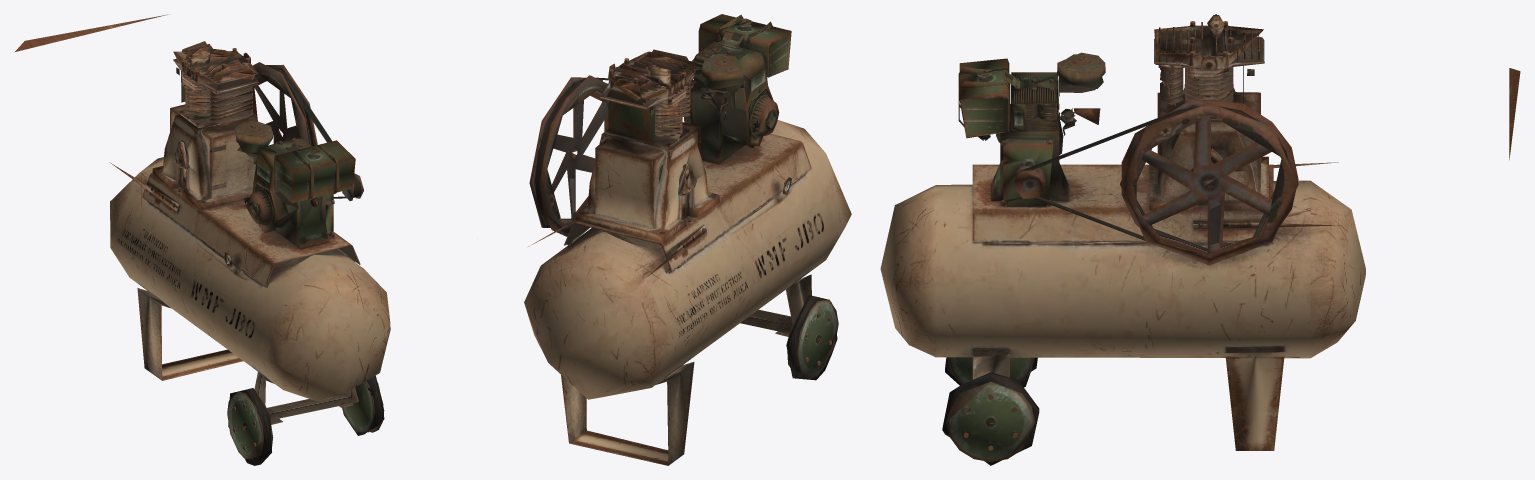
File: compressor.glb
3 views of the same model, side by side, from view 1: azimuth 30°, elevation 25°; view 2: azimuth 150°, elevation 25°; view 3: azimuth 270°, elevation 25° (orthographic). The views are drawn at different scales.
Visible parts, largest first — view 1: old_military_compressor; view 2: old_military_compressor; view 3: old_military_compressor.
Part boxes in pixels (x1=…): old_military_compressor: x1=15, y1=14, x2=390, y2=465; old_military_compressor: x1=524, y1=14, x2=851, y2=465; old_military_compressor: x1=880, y1=14, x2=1520, y2=465.
Bounding box in the file's own units: 0.5755 × 1.16 × 1.67.
2 materials, 2 textured.
